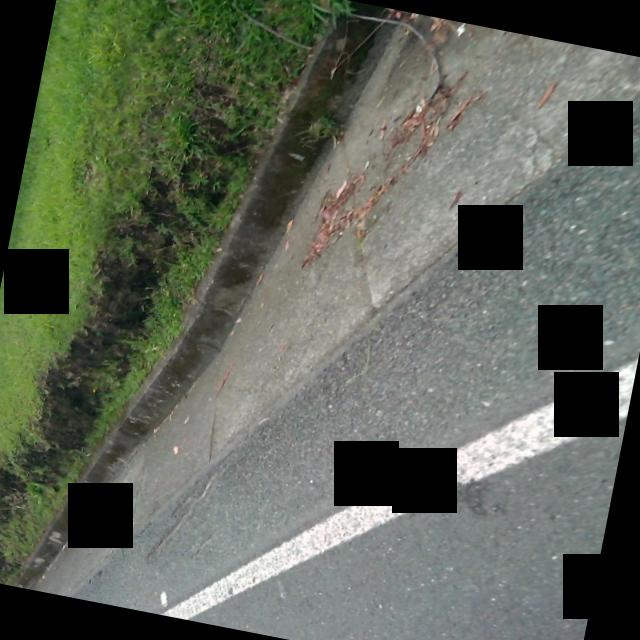DITCH: (16, 0, 640, 640), (93, 0, 640, 640)
